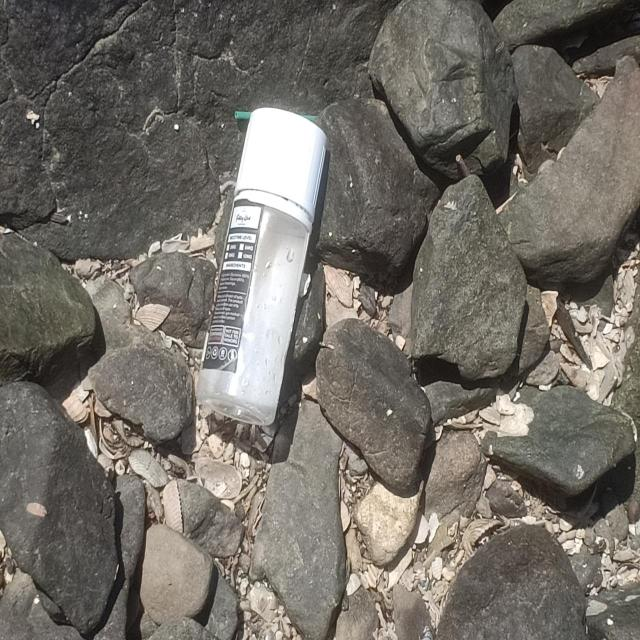plastic_waste: (196, 106, 330, 428)
